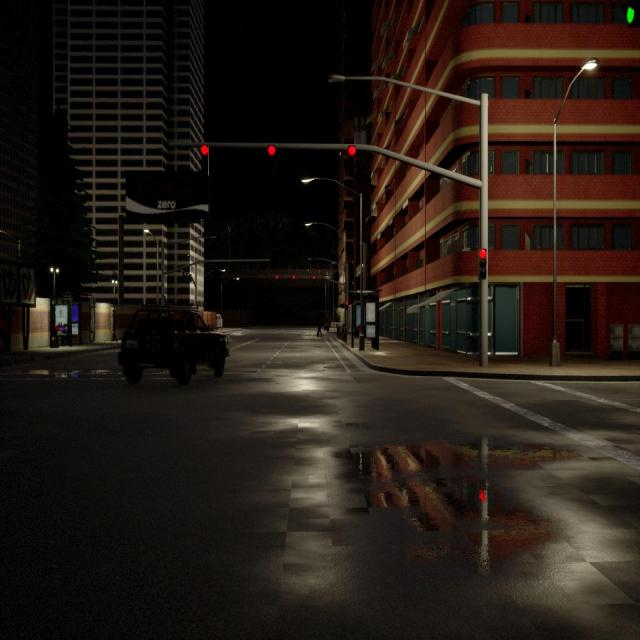Pedestrian: (315, 308, 324, 338)
Vehicle: (118, 306, 229, 384), (216, 314, 223, 329)
traffic_light: (625, 0, 640, 27), (478, 248, 487, 279), (348, 145, 356, 174), (200, 144, 208, 172), (267, 144, 276, 168), (345, 301, 348, 310), (312, 274, 316, 280), (292, 275, 295, 279), (276, 275, 278, 278)
